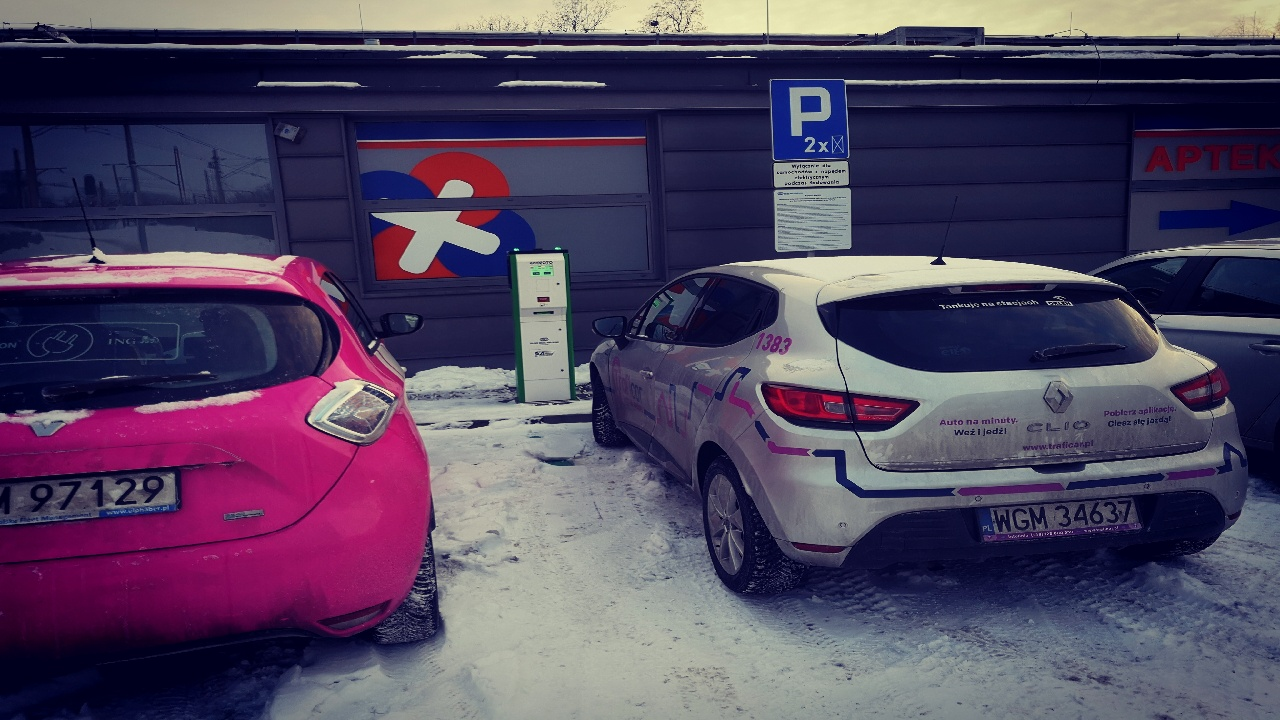D18: (762, 75, 861, 158)
